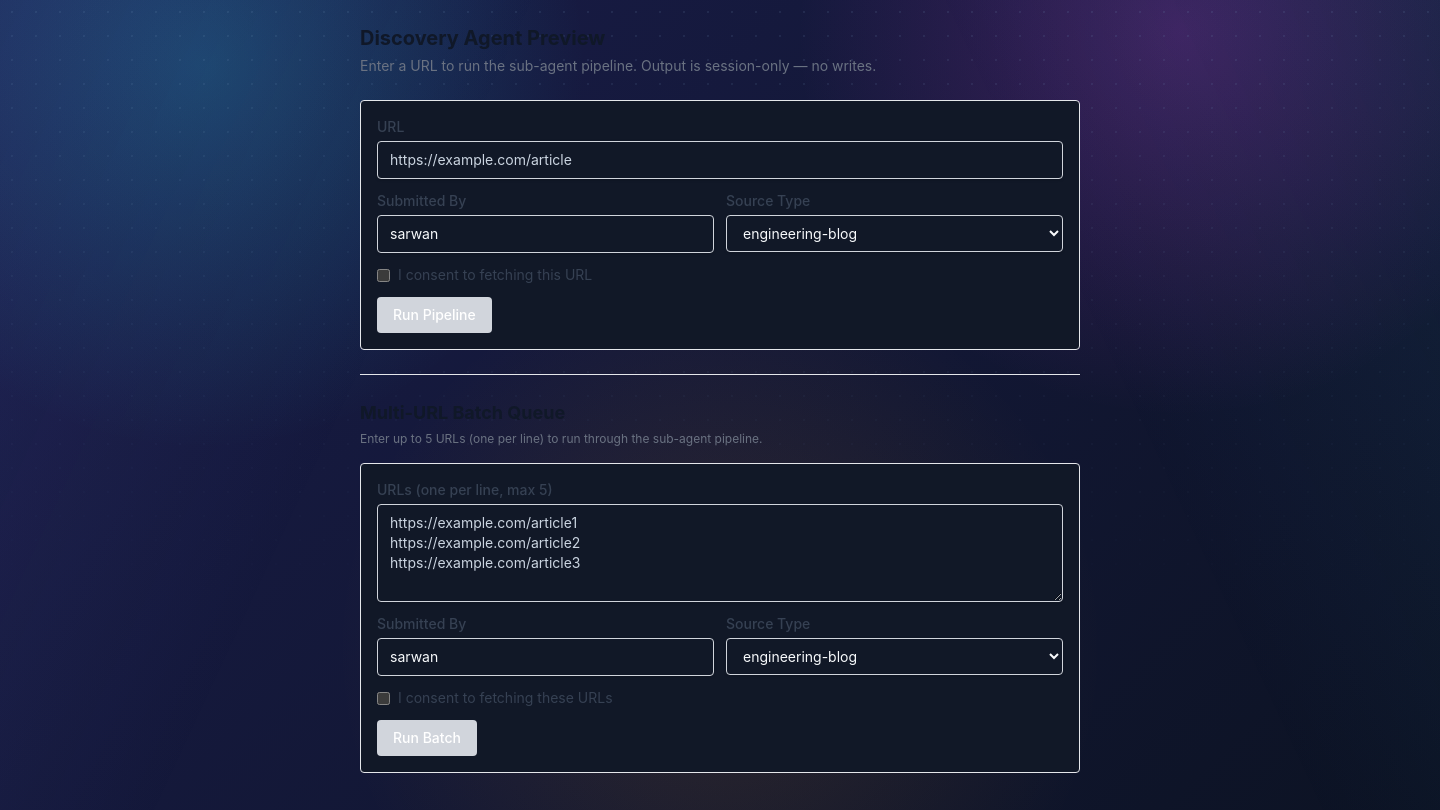
Test: DiscoveryAgentPreview › shows metadata section after successful run
Type "https://example.com/test" into the field with placeholder "https://example.com/article" at [720, 160], box x1=377 y1=141 x2=1063 y2=179
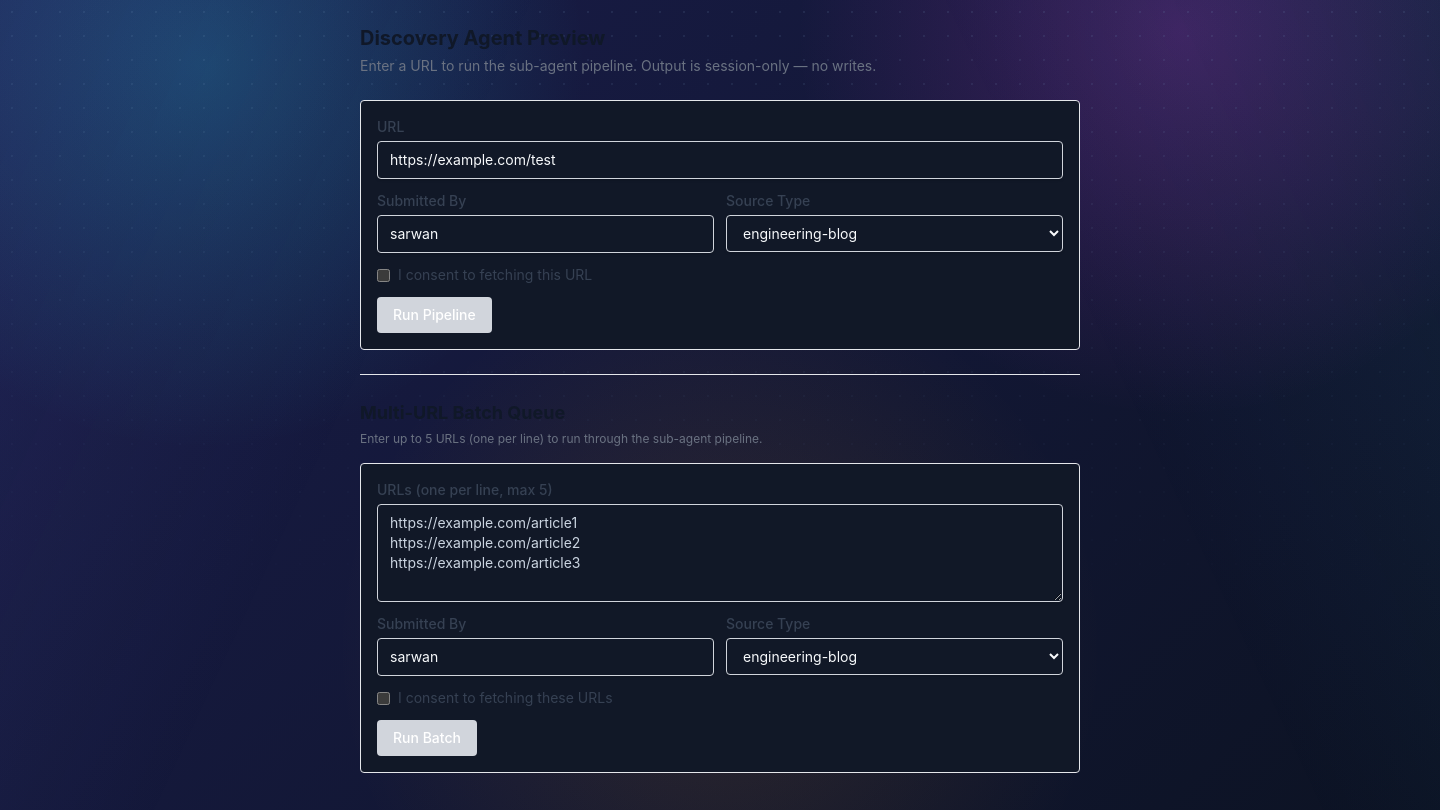
Click the text "I consent to fetching this URL" at [495, 275], box x1=398 y1=265 x2=592 y2=285
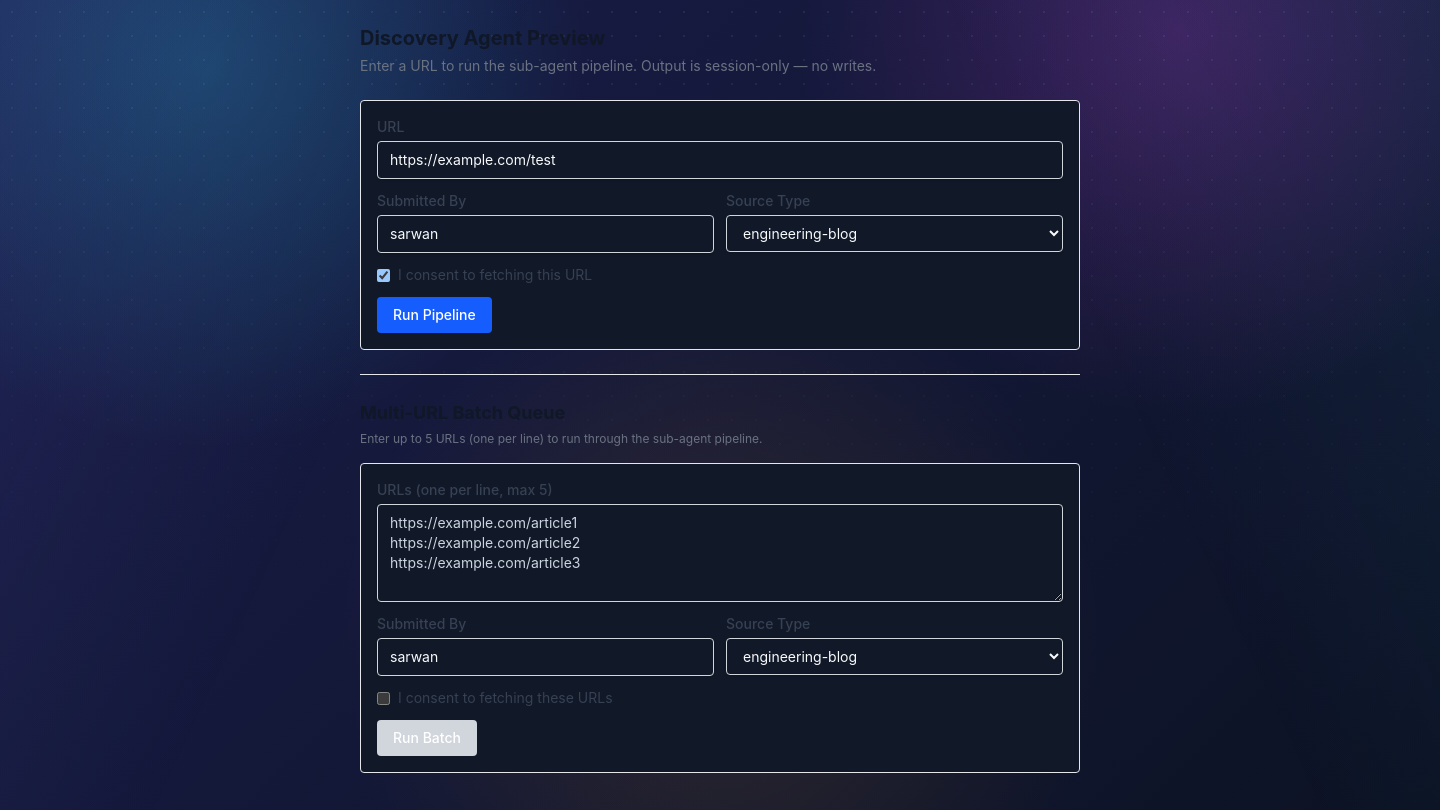
Click the button "Run Pipeline" at [434, 315], box x1=377 y1=297 x2=492 y2=333
(page scrolled)
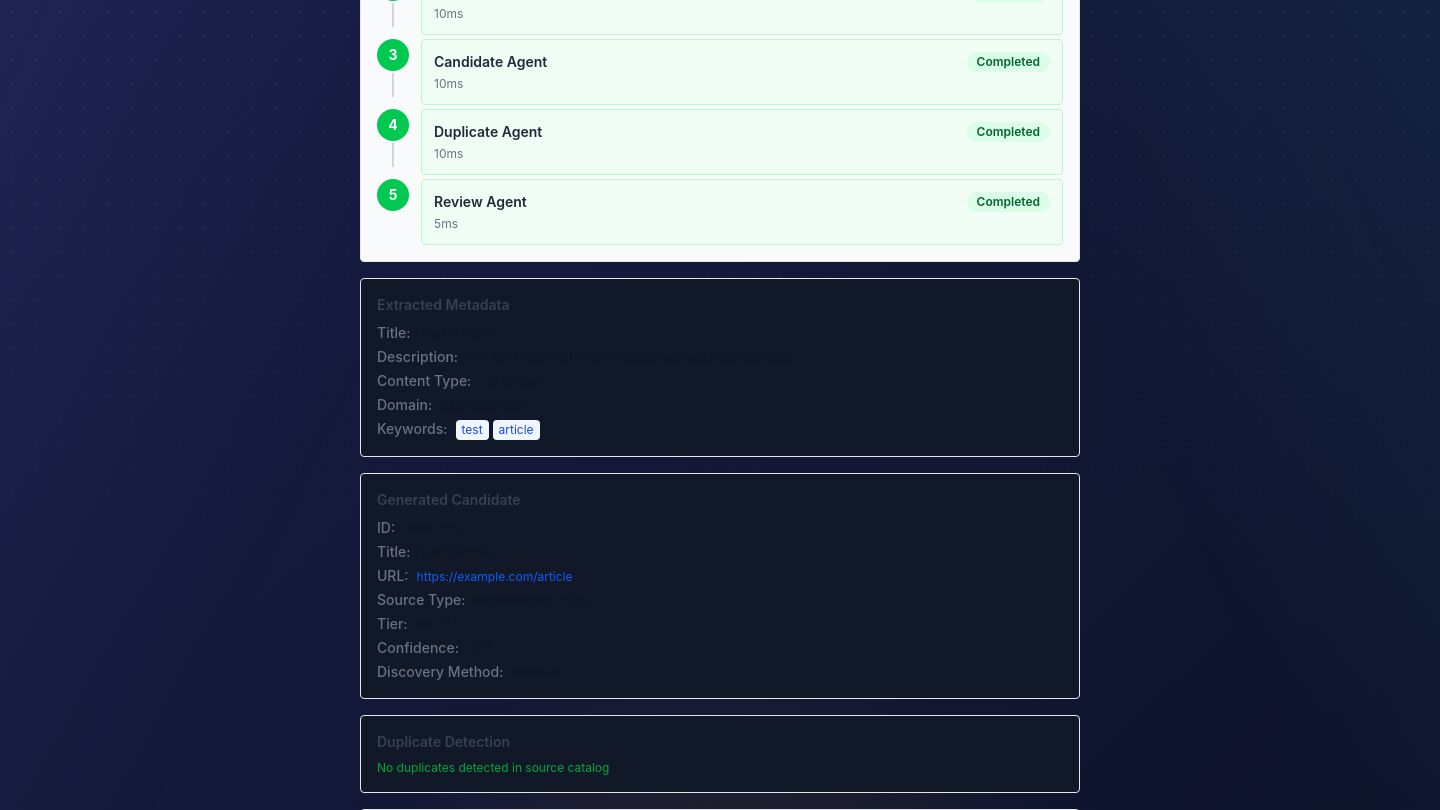
Check: the text "Extracted Metadata" is shown, box x1=377 y1=296 x2=510 y2=313
